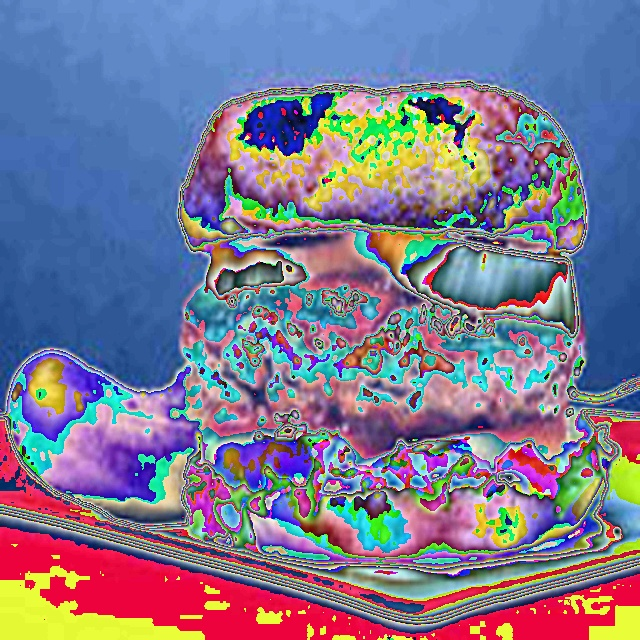background: (5, 82, 618, 563)
